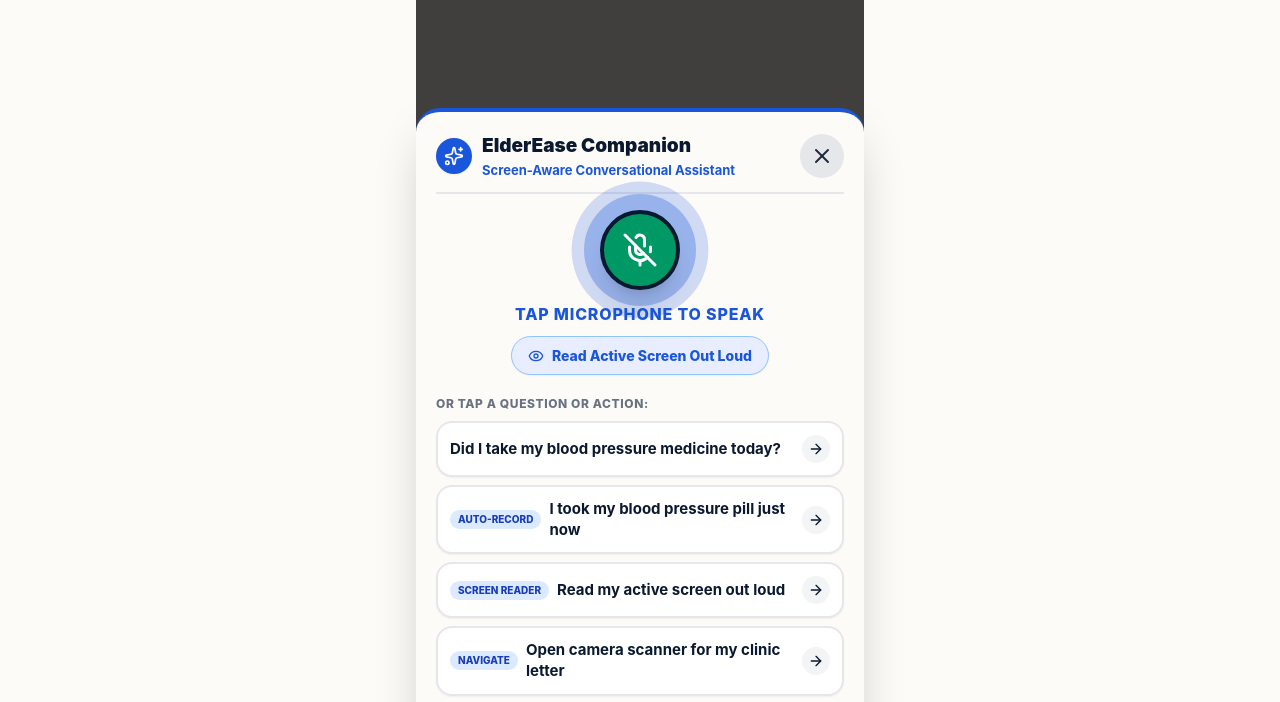
it: AICompanionOverlay Component › processes selected quick question and displays answer
Click the button "Did I take my blood pressure medicine today?" at (640, 449), box [436, 421, 844, 477]
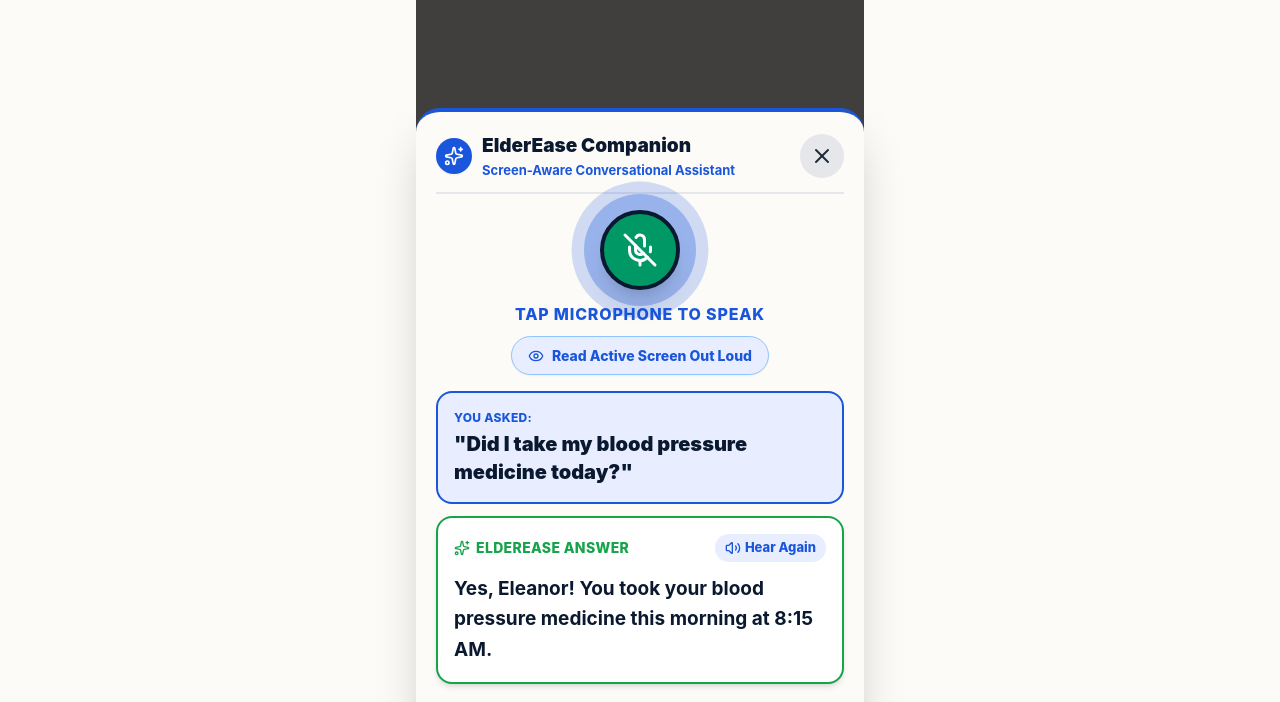
Check: the text "ElderEase Answer" is shown, box [454, 537, 629, 558]
Check: the text "Yes, Eleanor! You took your blood pressure medicine this morning" is shown, box [454, 576, 813, 661]
